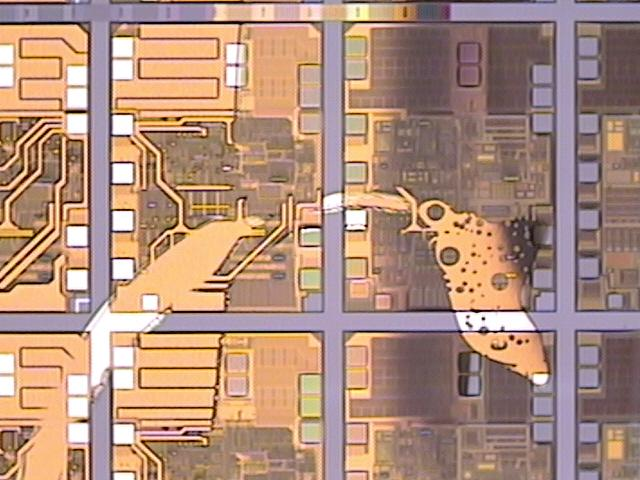COATING BAD: (16, 191, 550, 480)
